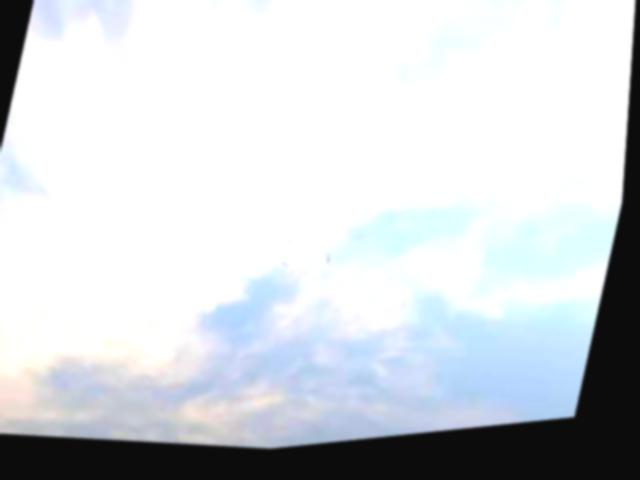iha: (329, 261, 336, 272)
